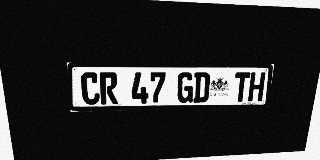4: (131, 72, 148, 104)
7: (149, 72, 166, 103)
C: (80, 72, 100, 105)
D: (193, 72, 210, 103)
G: (177, 72, 194, 103)
H: (248, 72, 266, 101)
R: (99, 72, 118, 104)
T: (233, 72, 250, 102)
